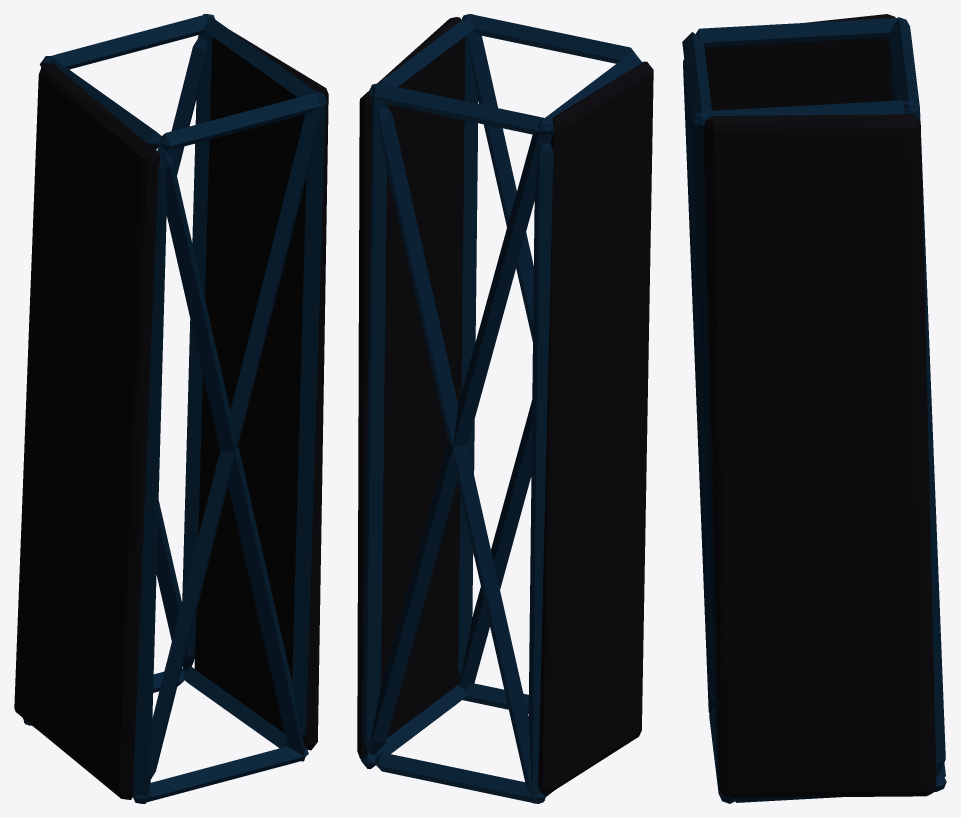
The picture shows the model from 3 angles, left to right: view 1: azimuth 30°, elevation 25°; view 2: azimuth 150°, elevation 25°; view 3: azimuth 270°, elevation 25°; orthographic projection. The views are drawn at different scales.
Visible parts, largest first — view 1: Untitled_3_MatteHull_geo; view 2: Untitled_3_MatteHull_geo; view 3: Untitled_3_MatteHull_geo.
Part boxes in pixels (x1=…): Untitled_3_MatteHull_geo: x1=14, y1=14, x2=328, y2=803; Untitled_3_MatteHull_geo: x1=357, y1=14, x2=653, y2=803; Untitled_3_MatteHull_geo: x1=682, y1=14, x2=946, y2=803.
Bounding box in the file's own units: 0.262 × 0.8125 × 0.2773.
